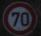Speed Limit -70-: (0, 1, 40, 35)
